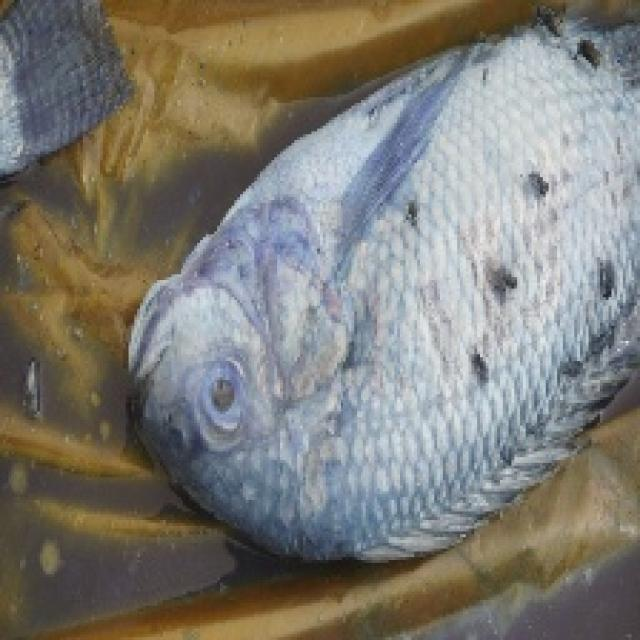Non-Fresh: (138, 56, 640, 522)
